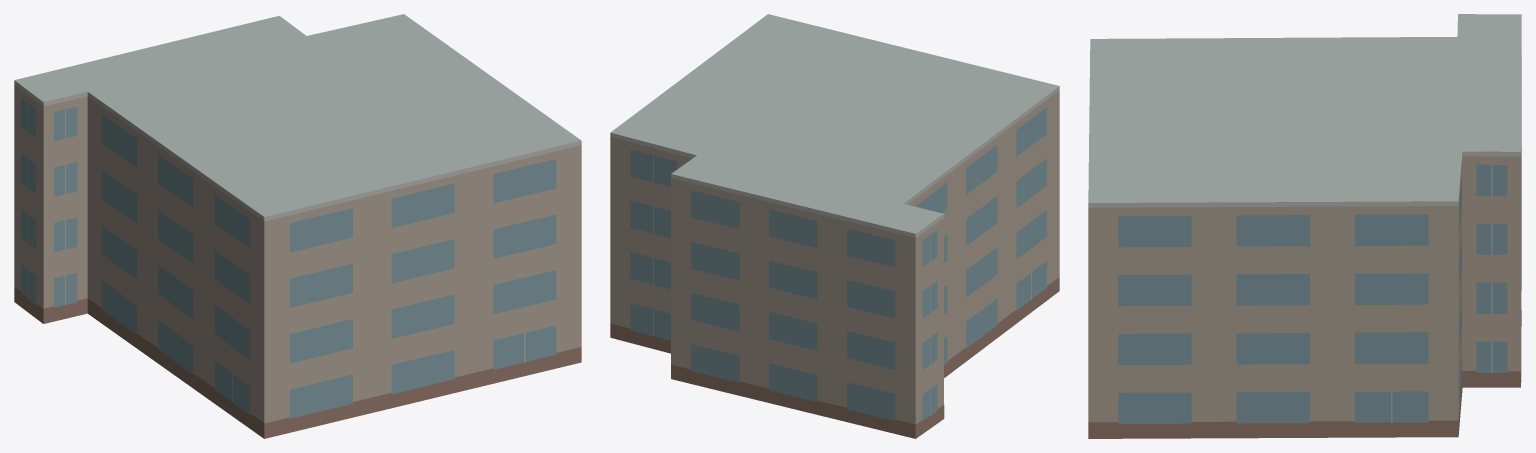
File: survey-upis-32748501.glb
The picture shows the model from 3 angles, left to right: view 1: azimuth 30°, elevation 25°; view 2: azimuth 150°, elevation 25°; view 3: azimuth 270°, elevation 25°; orthographic projection. The views are drawn at different scales.
Visible parts, largest first — view 1: survey-upis-32748501.tmp; view 2: survey-upis-32748501.tmp; view 3: survey-upis-32748501.tmp.
Part boxes in pixels (x1=…): survey-upis-32748501.tmp: x1=14, y1=14, x2=581, y2=438; survey-upis-32748501.tmp: x1=610, y1=14, x2=1059, y2=438; survey-upis-32748501.tmp: x1=1088, y1=14, x2=1521, y2=438.
Size of the model in its own units: 20.81 by 12.1 by 20.16.
